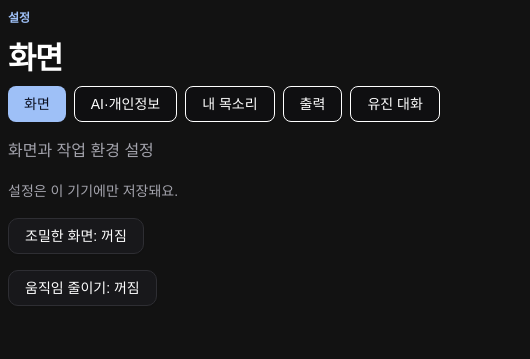
Scenario: settings that cannot do what they offered › says so when a setting cannot be kept, instead of failing silently
Click the button "조밀한 화면: 꺼짐": (76, 236) top-left (8, 218), bottom-right (144, 254)
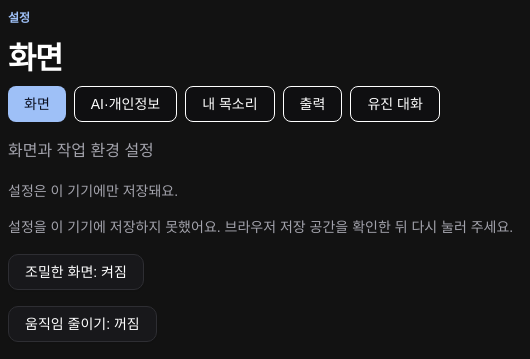
Now the button "조밀한 화면: 켜짐" is shown, box top-left (8, 254), bottom-right (144, 290)
Now the message reads "설정을 이 기기에 저장하지 못했어요. 브라우저 저장 공간을 확인한 뒤 다시 눌러 주세요.", box top-left (8, 219), bottom-right (513, 235)
